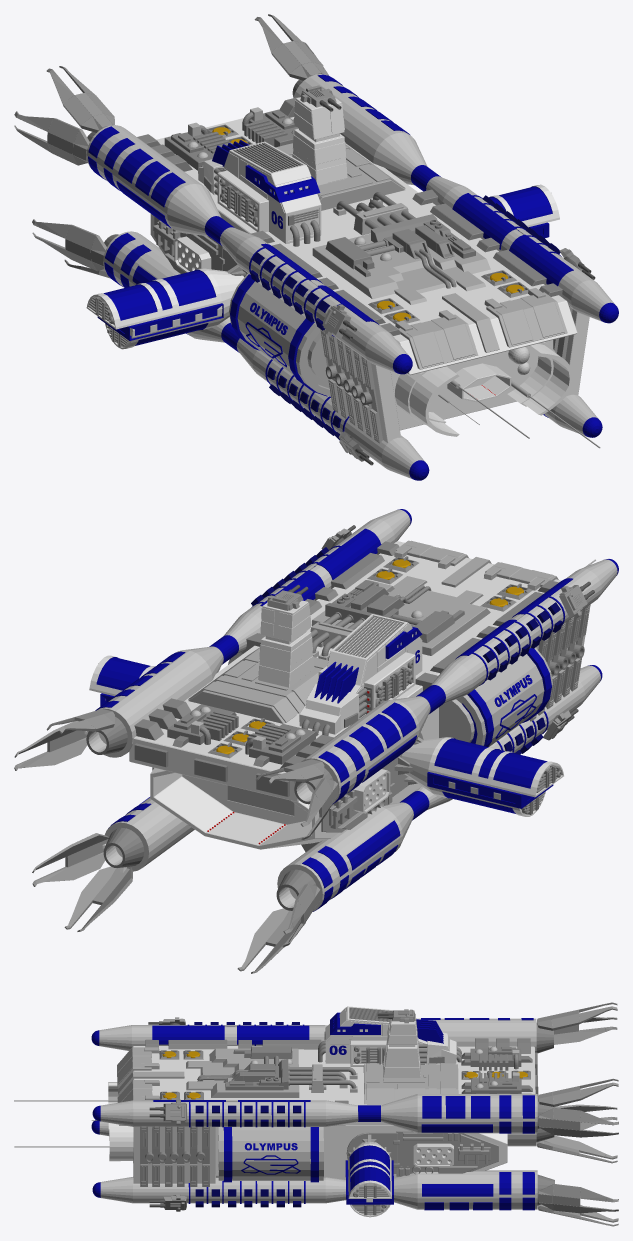
The model's file is Olympus.fbx.
3 renders of one model, top to bottom at view 1: azimuth 30°, elevation 25°; view 2: azimuth 150°, elevation 25°; view 3: azimuth 270°, elevation 25°, orthographic. The views are drawn at different scales.
Visible parts, largest first — view 1: Vifs32, Vifs21, Vifs15, Vifs50, Vifs24, Vifs05, Vifs14, Vifs35, Vifs17, Vifs34, Vifs48, Vifs29 (+22 smaller); view 2: Vifs21, Vifs24, Vifs32, Vifs05, Vifs50, Vifs15, Vifs14, Mesh10, Vifs17, Vifs34, Vifs42, Vifs48 (+21 smaller); view 3: Vifs21, Vifs14, Vifs16, Vifs24, Vifs32, Vifs50, Vifs05, Vifs42, Vifs15, Vifs49, Vifs19, Mesh08 (+26 smaller).
Boxes of the visible parts, x1,y1,x2,y2 form: Vifs32: (156, 109, 577, 430); Vifs21: (88, 74, 573, 432); Vifs15: (86, 125, 408, 372); Vifs50: (276, 143, 490, 304); Vifs24: (14, 14, 328, 278); Vifs05: (164, 109, 528, 324); Vifs14: (293, 74, 614, 321); Vifs35: (395, 288, 567, 369); Vifs17: (103, 231, 425, 478); Vifs34: (137, 97, 562, 335); Vifs48: (103, 186, 552, 345); Vifs29: (395, 342, 572, 436); Vifs21: (95, 528, 572, 911); Vifs24: (14, 709, 338, 973); Vifs32: (129, 541, 561, 803); Vifs05: (134, 556, 532, 796); Vifs50: (188, 576, 490, 723); Vifs15: (294, 559, 617, 803); Vifs14: (88, 509, 410, 757); Mesh10: (150, 768, 338, 849); Vifs17: (277, 665, 600, 911); Vifs34: (134, 541, 558, 851); Vifs42: (228, 647, 553, 746); Vifs48: (96, 657, 547, 813); Vifs21: (152, 1018, 534, 1210); Vifs14: (100, 1094, 537, 1133); Vifs16: (100, 1170, 537, 1209); Vifs24: (537, 1002, 618, 1226); Vifs32: (118, 1046, 535, 1179); Vifs50: (186, 1048, 458, 1104); Vifs05: (159, 1046, 538, 1099); Vifs42: (218, 1127, 325, 1180); Vifs15: (99, 1018, 536, 1052); Vifs49: (346, 1130, 498, 1176); Vifs19: (140, 1126, 209, 1186); Mesh08: (325, 1006, 456, 1064).
Size of the model in its own units: 118 by 63 by 184.
